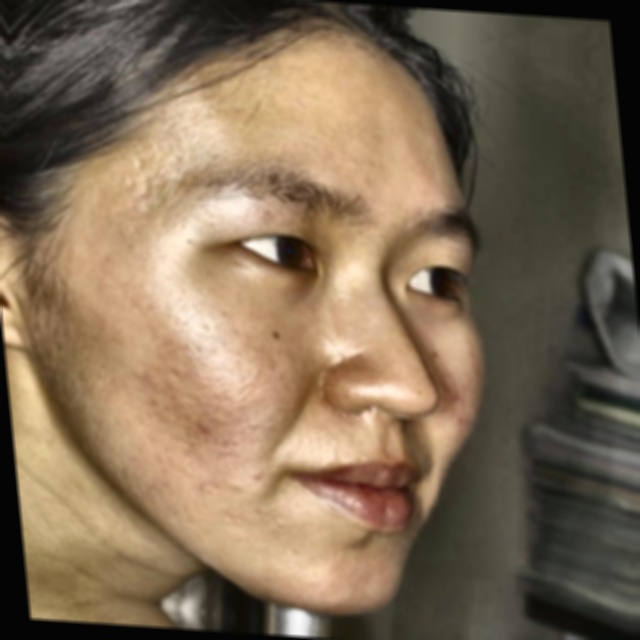comedone: (186, 418, 216, 442)
